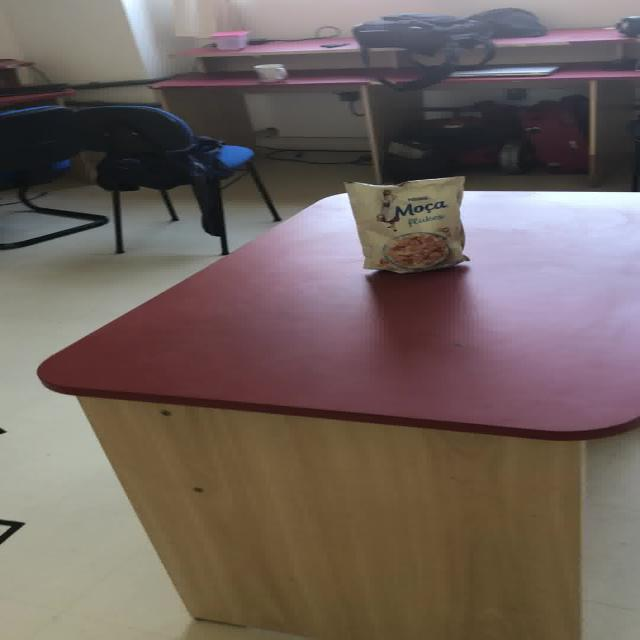corn flakes: (342, 175, 469, 274), (382, 231, 449, 268)
